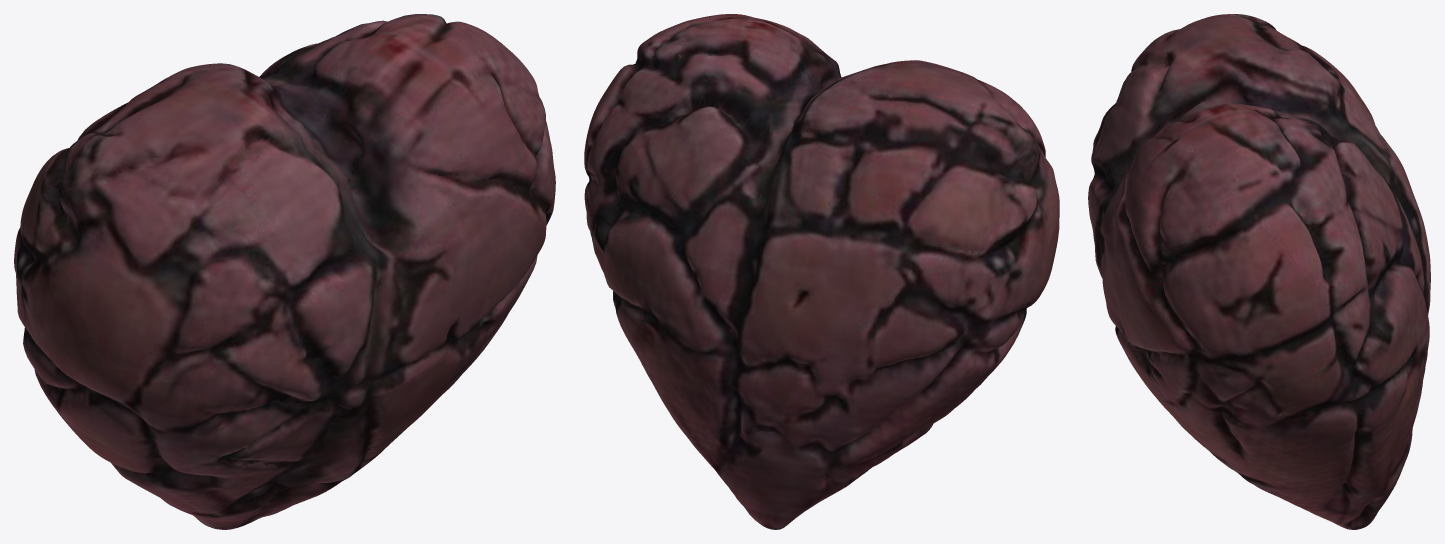
Rendered from broken-heart.glb.
3 views of the same model, side by side, from view 1: azimuth 30°, elevation 25°; view 2: azimuth 150°, elevation 25°; view 3: azimuth 270°, elevation 25° (orthographic). The views are drawn at different scales.
Visible parts, largest first — view 1: BrokenHeartModel; view 2: BrokenHeartModel; view 3: BrokenHeartModel.
Part boxes in pixels (bbox=[...]): BrokenHeartModel: bbox=[14, 14, 555, 529]; BrokenHeartModel: bbox=[584, 14, 1059, 529]; BrokenHeartModel: bbox=[1088, 14, 1430, 529].
Size of the model in its own units: 0.5374 by 0.5244 by 0.3545.
Materials: 1 (1 with a texture image).
